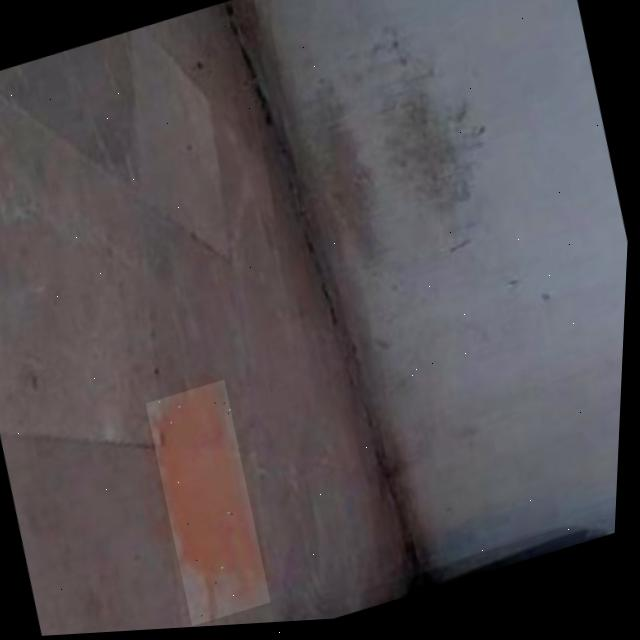spillage: (160, 386, 268, 620)
